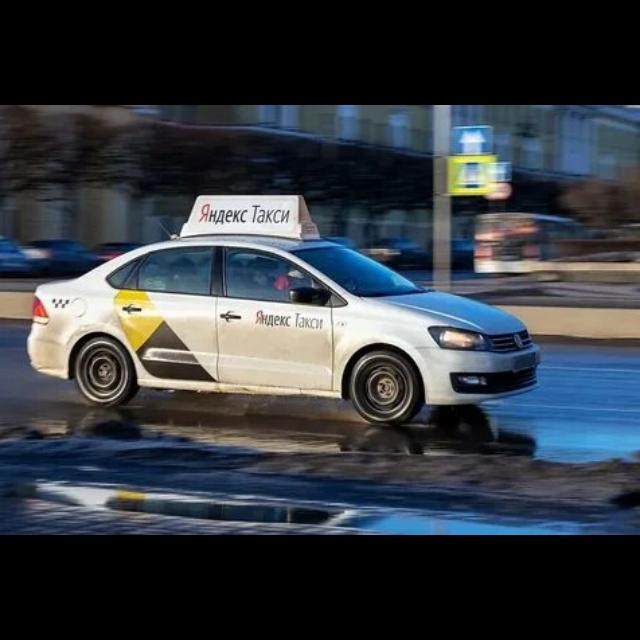taxi: (27, 194, 541, 427)
